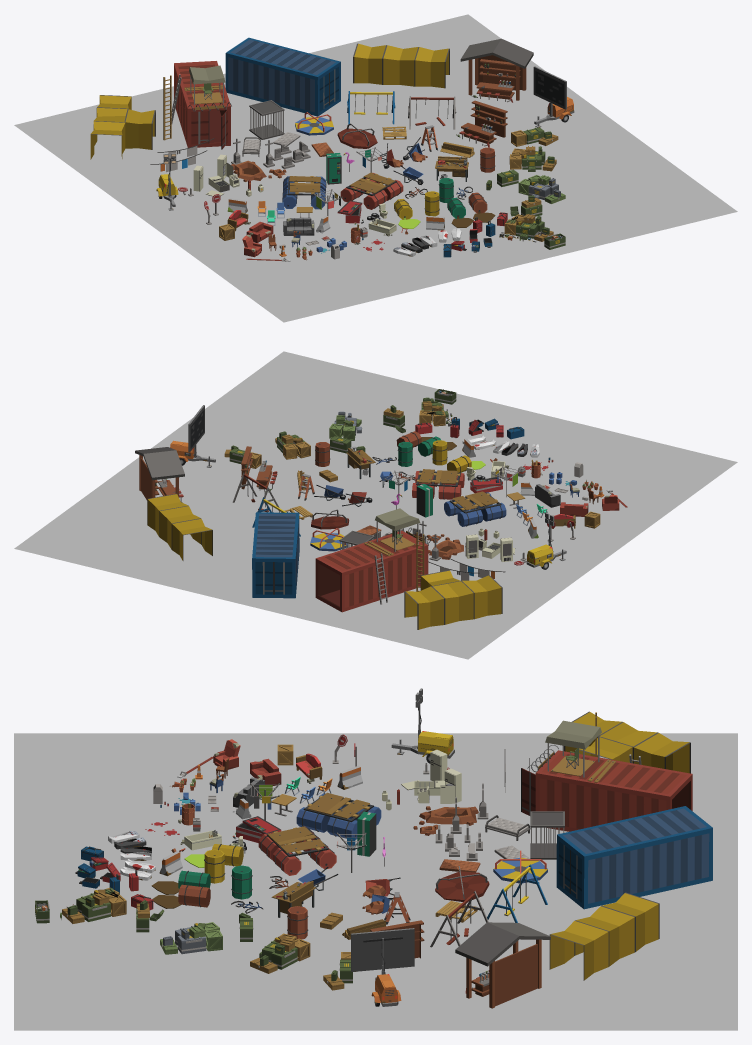
The model's file is Simple_Apocalypse_-_Env_Props-d7905eea.glb.
3 renders of one model, top to bottom at view 1: azimuth 30°, elevation 25°; view 2: azimuth 150°, elevation 25°; view 3: azimuth 270°, elevation 25°, orthographic. The views are drawn at different scales.
Visible parts, largest first — view 1: polySurface3595_lambert1_0, polySurface3368_lambert2_0, polySurface3023_lambert2_0, polySurface3203_lambert2_0, polySurface3024_lambert2_0, polySurface2946_lambert2_0, polySurface3170_lambert2_0, polySurface2974_lambert2_0, polySurface2949_lambert2_0, polySurface3311_lambert2_0, polySurface3307_lambert2_0, polySurface3208_lambert2_0 (+2 smaller); view 2: polySurface3595_lambert1_0, polySurface3203_lambert2_0, polySurface3024_lambert2_0, polySurface3368_lambert2_0, polySurface3023_lambert2_0, polySurface2946_lambert2_0, polySurface3208_lambert2_0, polySurface3170_lambert2_0, polySurface3457_lambert2_0, polySurface3307_lambert2_0; view 3: polySurface3595_lambert1_0, polySurface3368_lambert2_0, polySurface3203_lambert2_0, polySurface3023_lambert2_0, polySurface3024_lambert2_0, polySurface3170_lambert2_0, polySurface2946_lambert2_0, polySurface2947_lambert2_0, polySurface3311_lambert2_0, polySurface3208_lambert2_0, polySurface3307_lambert2_0, polySurface3457_lambert2_0 (+14 smaller).
Part boxes in pixels (bbox=[...]): polySurface3595_lambert1_0: bbox=[14, 14, 737, 322]; polySurface3368_lambert2_0: bbox=[225, 37, 340, 116]; polySurface3023_lambert2_0: bbox=[353, 43, 449, 88]; polySurface3203_lambert2_0: bbox=[174, 61, 230, 147]; polySurface3024_lambert2_0: bbox=[90, 95, 155, 159]; polySurface2946_lambert2_0: bbox=[460, 38, 533, 68]; polySurface3170_lambert2_0: bbox=[533, 66, 566, 109]; polySurface2974_lambert2_0: bbox=[470, 100, 507, 137]; polySurface2949_lambert2_0: bbox=[479, 59, 520, 90]; polySurface3311_lambert2_0: bbox=[337, 128, 377, 148]; polySurface3307_lambert2_0: bbox=[295, 117, 333, 135]; polySurface3208_lambert2_0: bbox=[189, 65, 225, 84]; polySurface3595_lambert1_0: bbox=[14, 351, 737, 659]; polySurface3203_lambert2_0: bbox=[315, 530, 428, 612]; polySurface3024_lambert2_0: bbox=[404, 570, 502, 629]; polySurface3368_lambert2_0: bbox=[252, 512, 299, 598]; polySurface3023_lambert2_0: bbox=[147, 493, 212, 560]; polySurface2946_lambert2_0: bbox=[135, 447, 184, 480]; polySurface3208_lambert2_0: bbox=[375, 508, 420, 530]; polySurface3170_lambert2_0: bbox=[188, 405, 204, 452]; polySurface3457_lambert2_0: bbox=[416, 484, 432, 517]; polySurface3307_lambert2_0: bbox=[310, 533, 347, 551]; polySurface3595_lambert1_0: bbox=[14, 733, 737, 1030]; polySurface3368_lambert2_0: bbox=[556, 806, 712, 909]; polySurface3203_lambert2_0: bbox=[535, 750, 692, 831]; polySurface3023_lambert2_0: bbox=[549, 892, 659, 980]; polySurface3024_lambert2_0: bbox=[564, 711, 690, 773]; polySurface3170_lambert2_0: bbox=[351, 928, 414, 971]; polySurface2946_lambert2_0: bbox=[455, 922, 550, 966]; polySurface2947_lambert2_0: bbox=[495, 944, 537, 1006]; polySurface3311_lambert2_0: bbox=[435, 871, 489, 901]; polySurface3208_lambert2_0: bbox=[545, 720, 601, 749]; polySurface3307_lambert2_0: bbox=[493, 857, 547, 883]; polySurface3457_lambert2_0: bbox=[357, 811, 376, 856].
Size of the model in its own units: 70.3 by 10.15 by 72.31.
2 materials, 1 textured.
